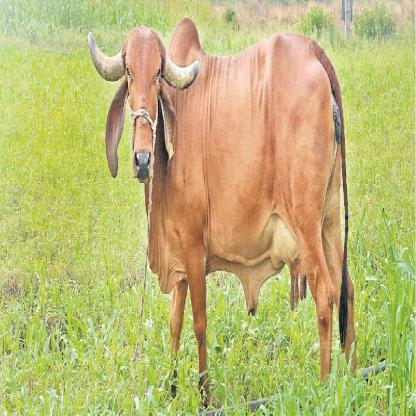cow: (89, 16, 357, 416)
